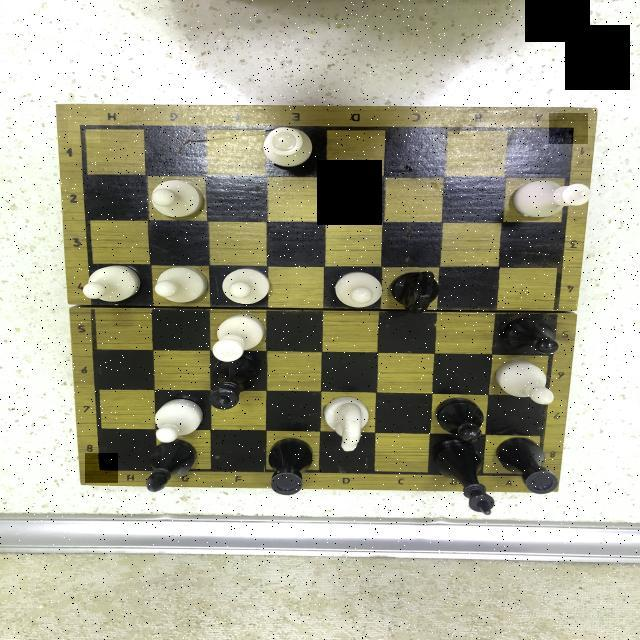chess-table-corners: (549, 113, 588, 144), (85, 453, 118, 483), (68, 117, 100, 143)
